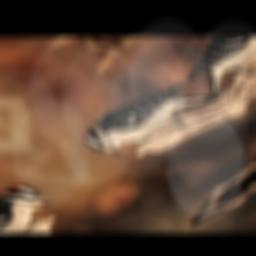Woodpecker: (70, 71, 224, 174)
